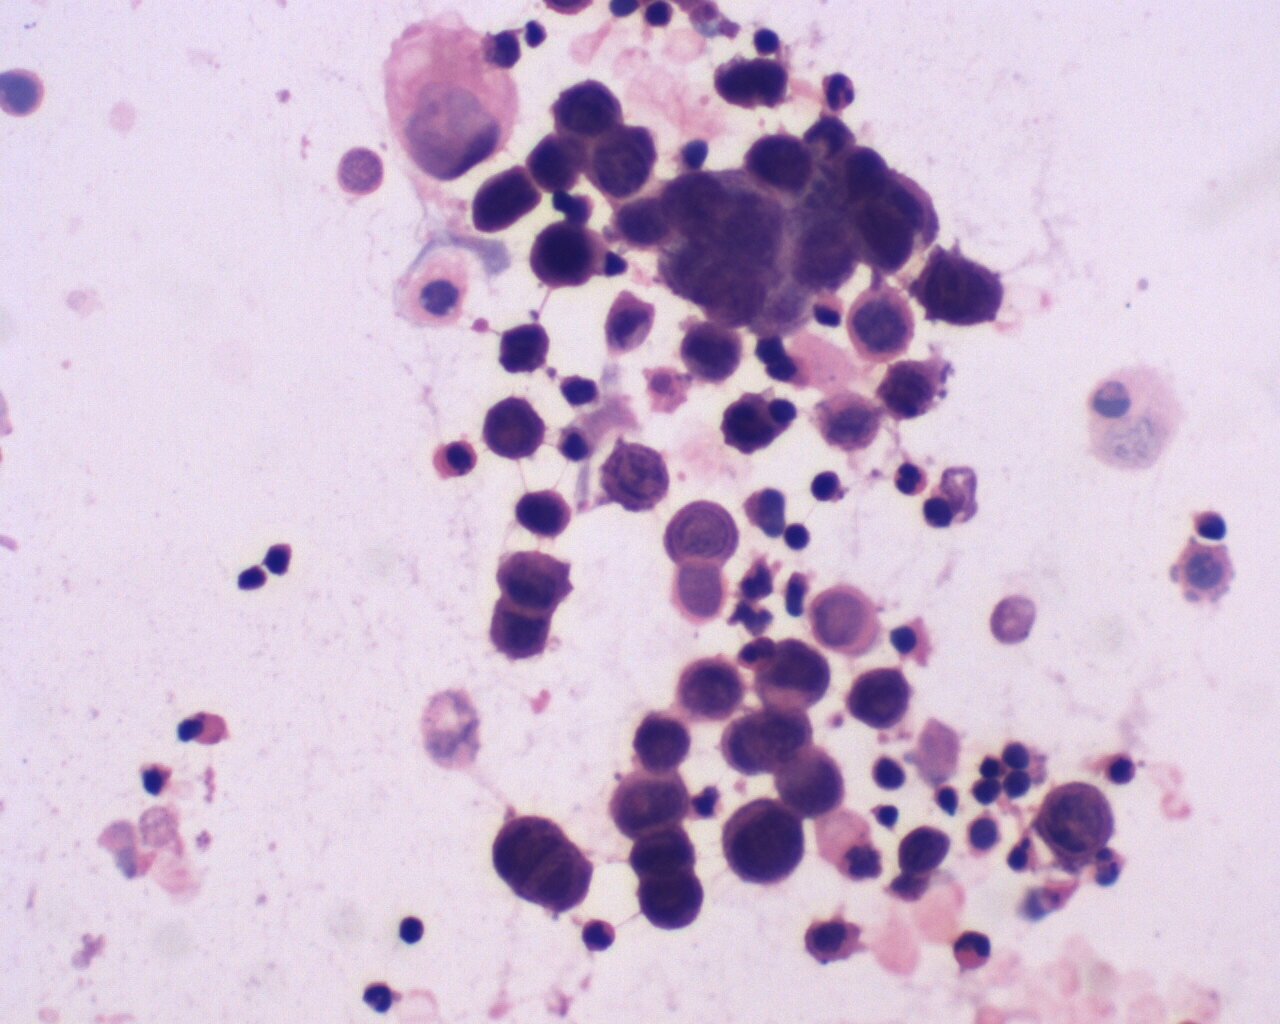ab: (486, 810, 597, 920), (720, 794, 806, 892), (914, 247, 1008, 333), (1035, 779, 1121, 864), (585, 120, 661, 204), (845, 280, 921, 365), (650, 495, 740, 561), (758, 637, 833, 713), (609, 771, 693, 838), (526, 225, 605, 293), (745, 127, 819, 200), (635, 866, 708, 937), (678, 653, 746, 723), (471, 165, 539, 235), (478, 396, 548, 462), (501, 549, 577, 608), (676, 318, 744, 385), (844, 665, 911, 731), (553, 76, 624, 136), (485, 604, 552, 665), (522, 133, 586, 193)
lymph: (777, 516, 816, 554), (395, 912, 427, 949)
neutro: (819, 69, 860, 115), (954, 928, 994, 973), (890, 460, 930, 501)
